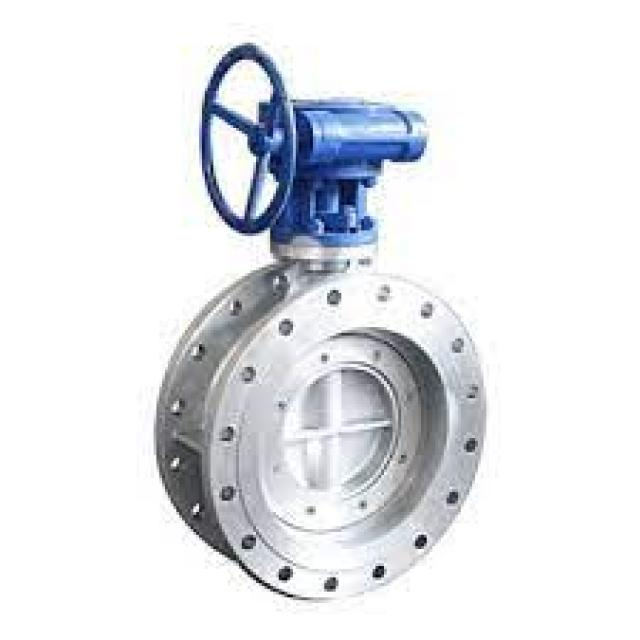Wheel Handle Valve Threaded: (181, 28, 310, 246)
